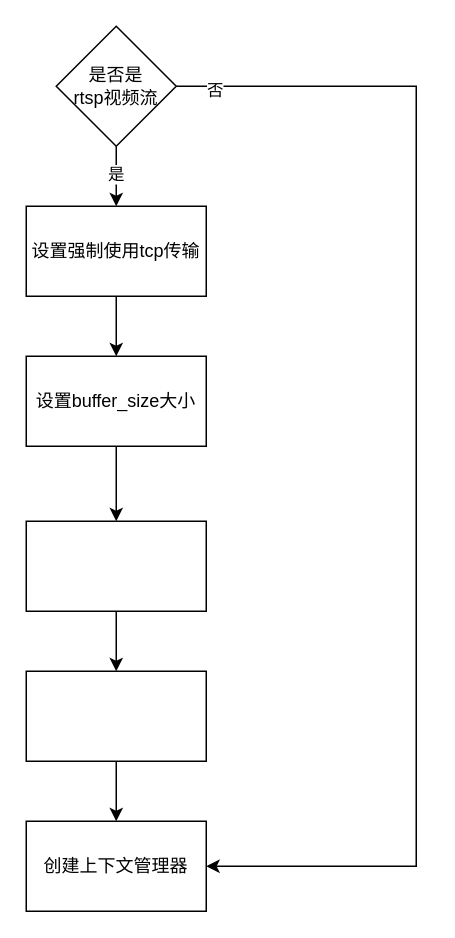
The diagram is 455 pixels wide and 938 high, and some of its shapes have lost their labels. The shapes that lost their labels are listed below. From the top down, each one's centre as x and y in pixels, then its label:
At (x=115, y=565): "设置超时时间".
At (x=115, y=715): "设置最大延时".
